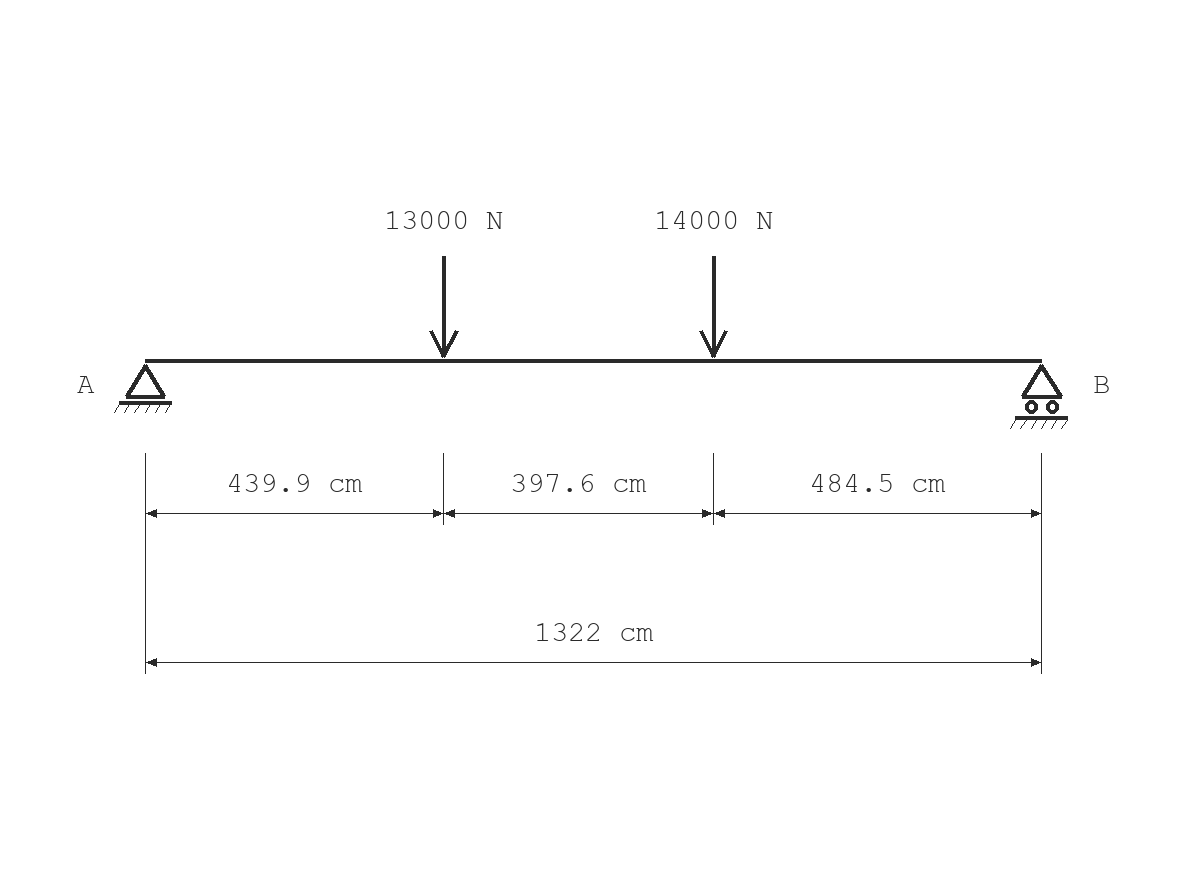pin_support: (114, 364, 172, 413)
point_load: (429, 256, 459, 358), (699, 256, 728, 358)
roller_support: (1010, 364, 1068, 429)
